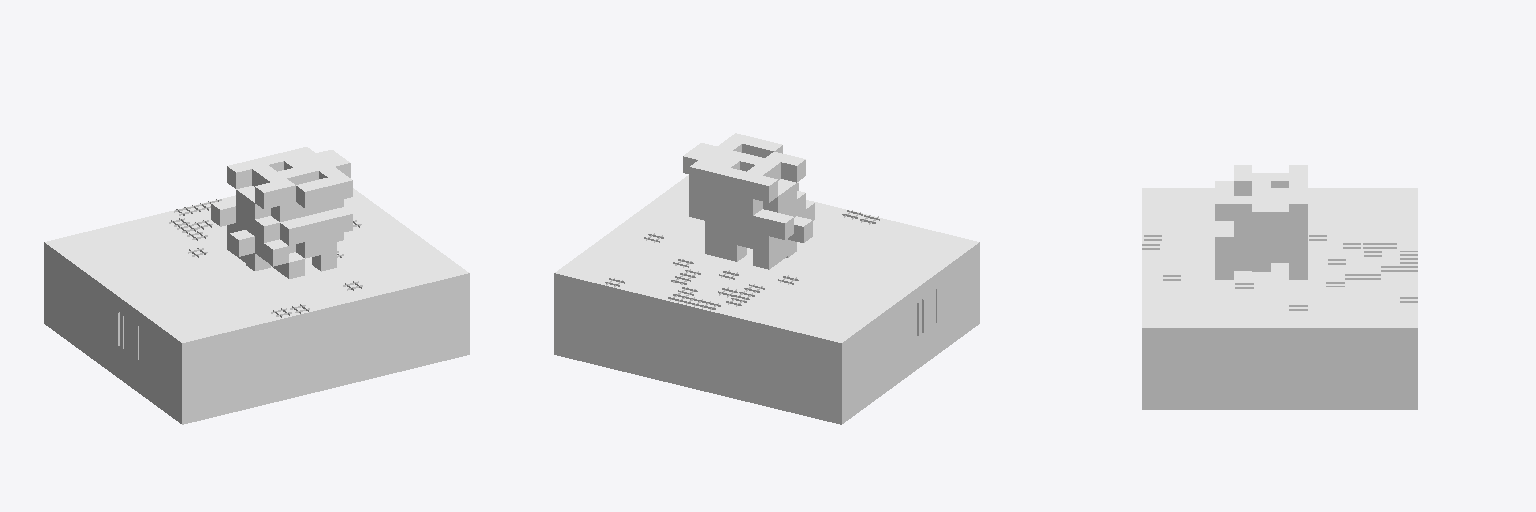
Rendered from mineways.obj.
The picture shows the model from 3 angles: view 1: azimuth 30°, elevation 25°; view 2: azimuth 150°, elevation 25°; view 3: azimuth 270°, elevation 25°; orthographic projection.
Visible parts, largest first — view 1: New_World__63_58_251_to_80_319_265; view 2: New_World__63_58_251_to_80_319_265; view 3: New_World__63_58_251_to_80_319_265.
Boxes of the visible parts, <box> form: New_World__63_58_251_to_80_319_265: <box>44,147,469,424</box>; New_World__63_58_251_to_80_319_265: <box>554,133,979,424</box>; New_World__63_58_251_to_80_319_265: <box>1142,165,1417,409</box>.
Bounding box in the file's own units: 2.72 × 1.5 × 2.25.